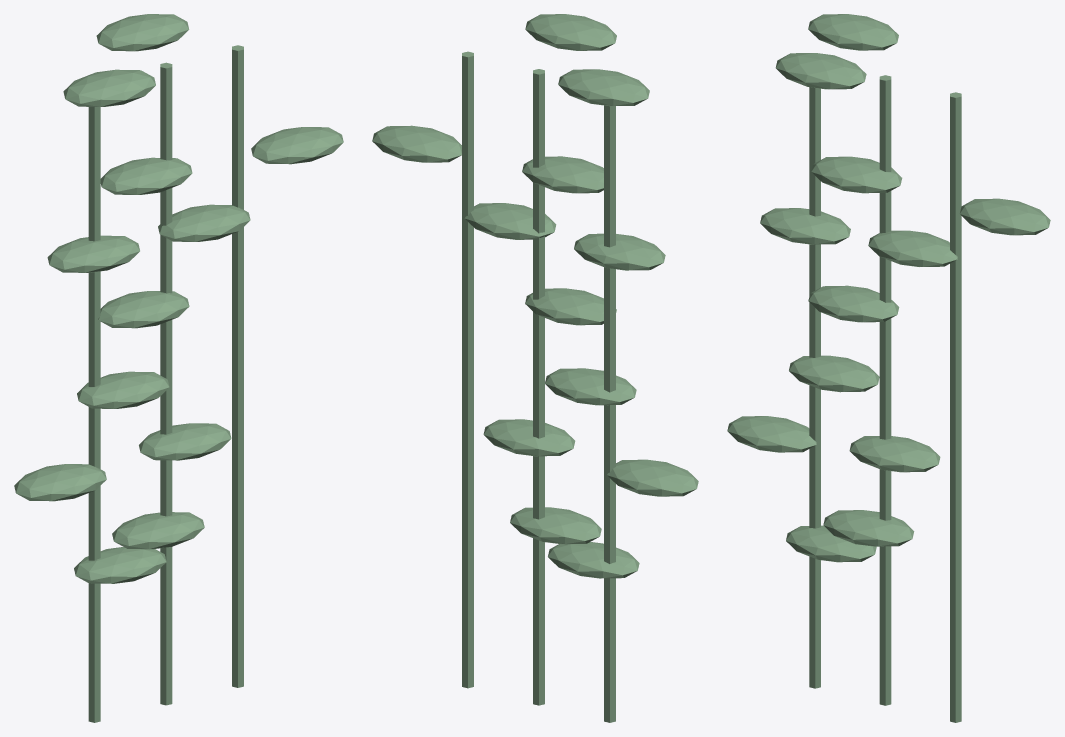
Rendered from ivy_trellis_02.glb.
3 renders of one model, left to right at view 1: azimuth 30°, elevation 25°; view 2: azimuth 150°, elevation 25°; view 3: azimuth 330°, elevation 25°, orthographic.
Parts seen in each view (by area): view 1: vine2, vine0, vine1, leaf1, leaf0, leaf5, leaf9, leaf8, leaf4, leaf3, leaf2, leaf10 (+3 smaller); view 2: vine2, vine0, vine1, leaf0, leaf1, leaf5, leaf9, leaf4, leaf2, leaf10, leaf7, leaf8 (+3 smaller); view 3: vine2, vine1, vine0, leaf1, leaf0, leaf5, leaf7, leaf9, leaf10, leaf4, leaf2, leaf3 (+3 smaller).
Part boxes in pixels (bbox=[...]): vine2: bbox=[232, 45, 243, 687]; vine0: bbox=[88, 107, 100, 722]; vine1: bbox=[160, 62, 172, 705]; leaf1: bbox=[96, 14, 189, 51]; leaf0: bbox=[63, 69, 155, 106]; leaf5: bbox=[251, 127, 343, 164]; leaf9: bbox=[14, 464, 106, 501]; leaf8: bbox=[100, 157, 192, 194]; leaf4: bbox=[112, 512, 204, 549]; leaf3: bbox=[98, 291, 189, 328]; leaf2: bbox=[47, 235, 139, 272]; leaf10: bbox=[139, 423, 231, 460]; vine2: bbox=[462, 51, 473, 688]; vine0: bbox=[604, 105, 615, 722]; vine1: bbox=[533, 69, 544, 705]; leaf0: bbox=[558, 69, 649, 106]; leaf1: bbox=[525, 14, 616, 50]; leaf5: bbox=[372, 125, 461, 162]; leaf9: bbox=[607, 459, 698, 496]; leaf4: bbox=[510, 507, 601, 544]; leaf2: bbox=[574, 233, 665, 270]; leaf10: bbox=[483, 419, 575, 456]; leaf7: bbox=[545, 368, 636, 405]; leaf8: bbox=[522, 156, 603, 193]; vine2: bbox=[950, 92, 961, 722]; vine1: bbox=[879, 75, 891, 705]; vine0: bbox=[809, 87, 820, 688]; leaf1: bbox=[808, 14, 898, 50]; leaf0: bbox=[775, 53, 866, 89]; leaf5: bbox=[960, 198, 1050, 235]; leaf7: bbox=[789, 355, 879, 392]; leaf9: bbox=[727, 416, 816, 452]; leaf10: bbox=[849, 436, 940, 472]; leaf4: bbox=[823, 510, 914, 546]; leaf2: bbox=[760, 208, 850, 244]; leaf3: bbox=[808, 285, 899, 322].
Size of the model in its own units: 0.8195 by 1.66 by 0.14.
